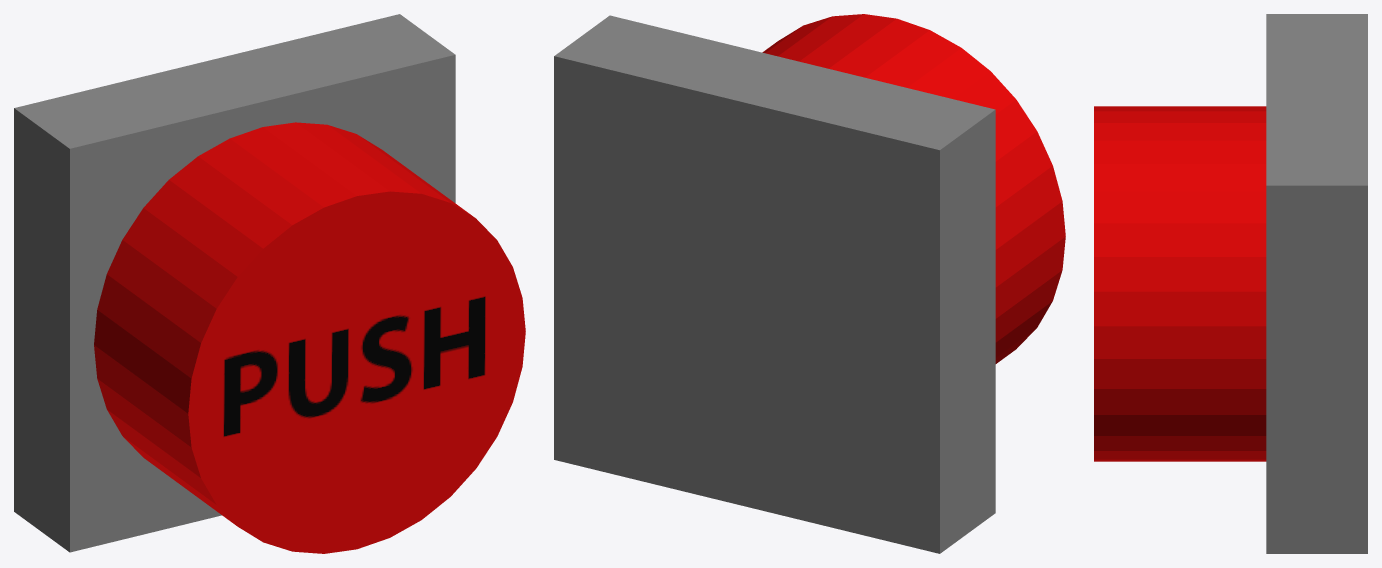
Rendered from button.fbx.
3 views of the same model, side by side, from view 1: azimuth 30°, elevation 25°; view 2: azimuth 150°, elevation 25°; view 3: azimuth 270°, elevation 25° (orthographic). The views are drawn at different scales.
Visible parts, largest first — view 1: button, box; view 2: box, button; view 3: button, box.
Boxes of the visible parts, bbox=[...] form: button: bbox=[94, 122, 525, 553]; box: bbox=[14, 14, 455, 552]; box: bbox=[554, 15, 995, 553]; button: bbox=[762, 14, 1065, 363]; button: bbox=[1094, 106, 1266, 461]; box: bbox=[1266, 14, 1367, 553].
Size of the model in its own units: 0.08 by 0.08 by 0.0539.
